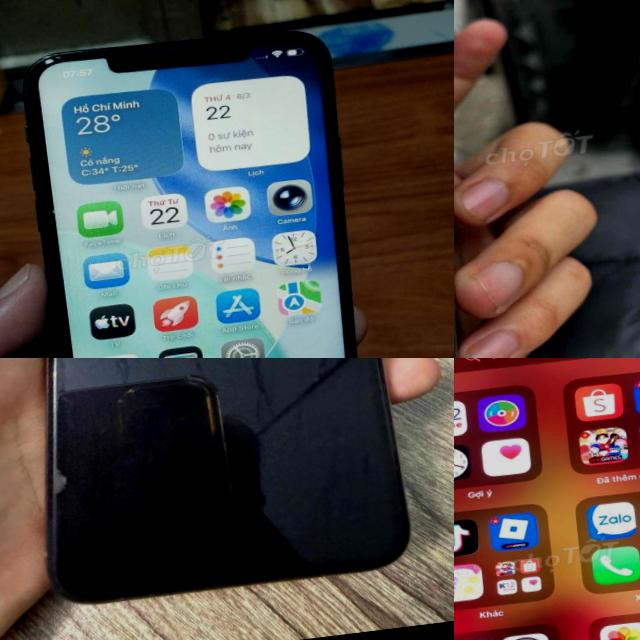gen_11: (23, 32, 356, 358)
gen_15: (454, 0, 517, 358)
gen_7_8: (454, 358, 640, 640)
gen_x_xs: (0, 358, 433, 612)
